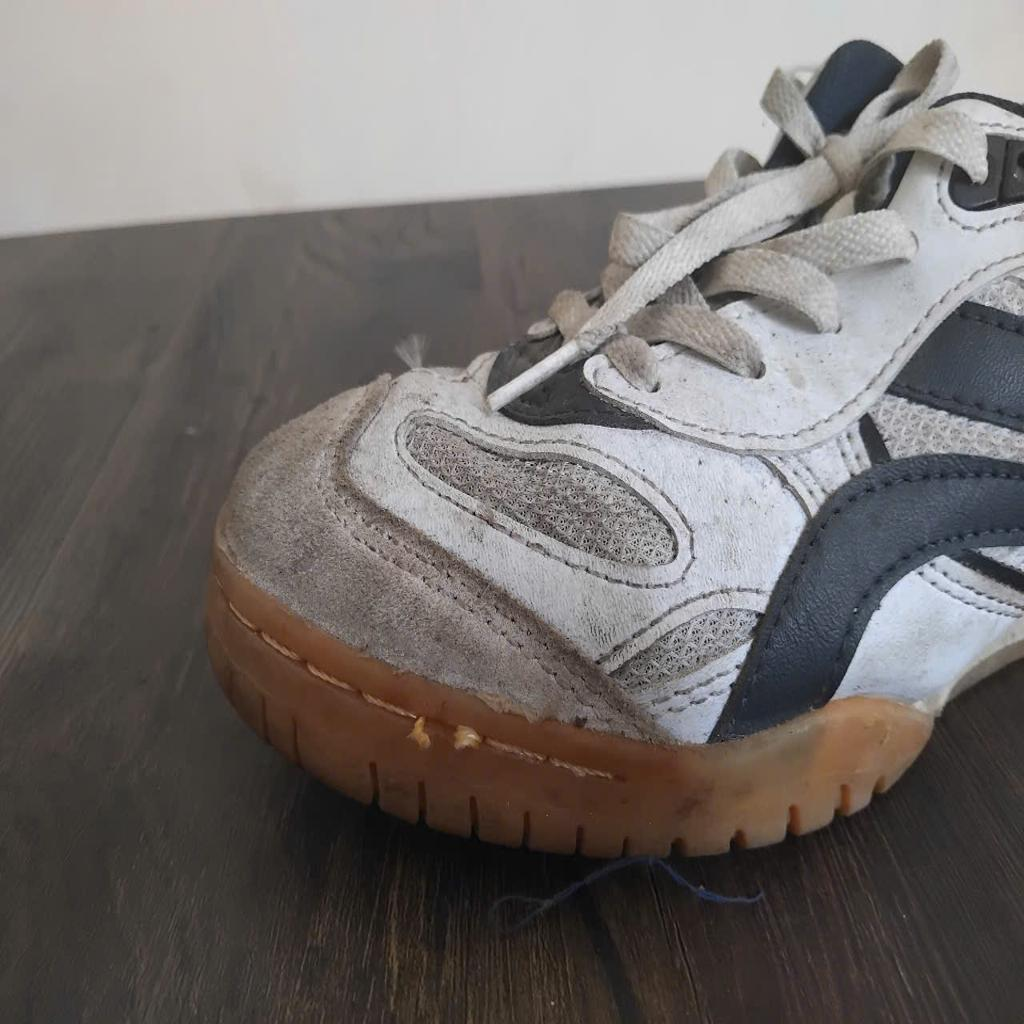broken: (402, 703, 486, 767)
